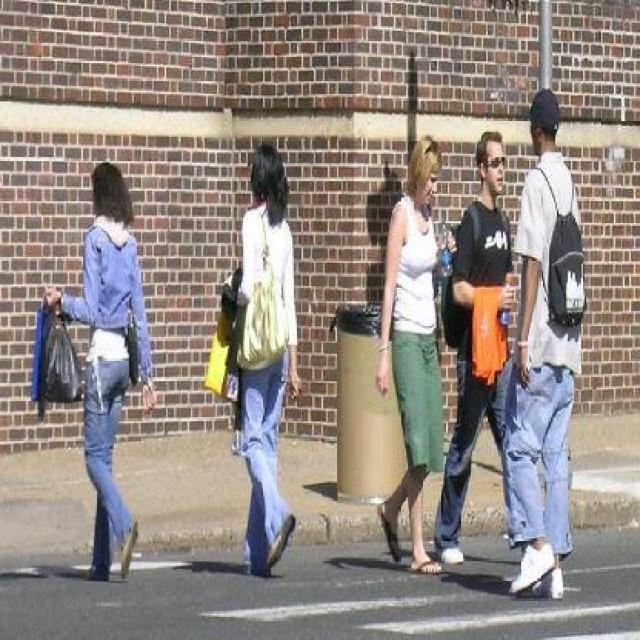Person: (47, 153, 153, 579), (504, 87, 590, 596), (211, 138, 307, 572), (448, 125, 523, 573), (378, 128, 448, 582)
